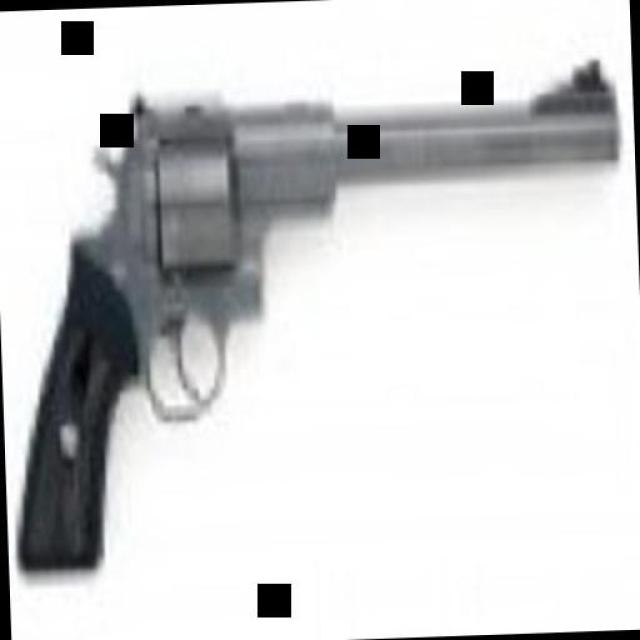gun: (0, 51, 634, 569)
